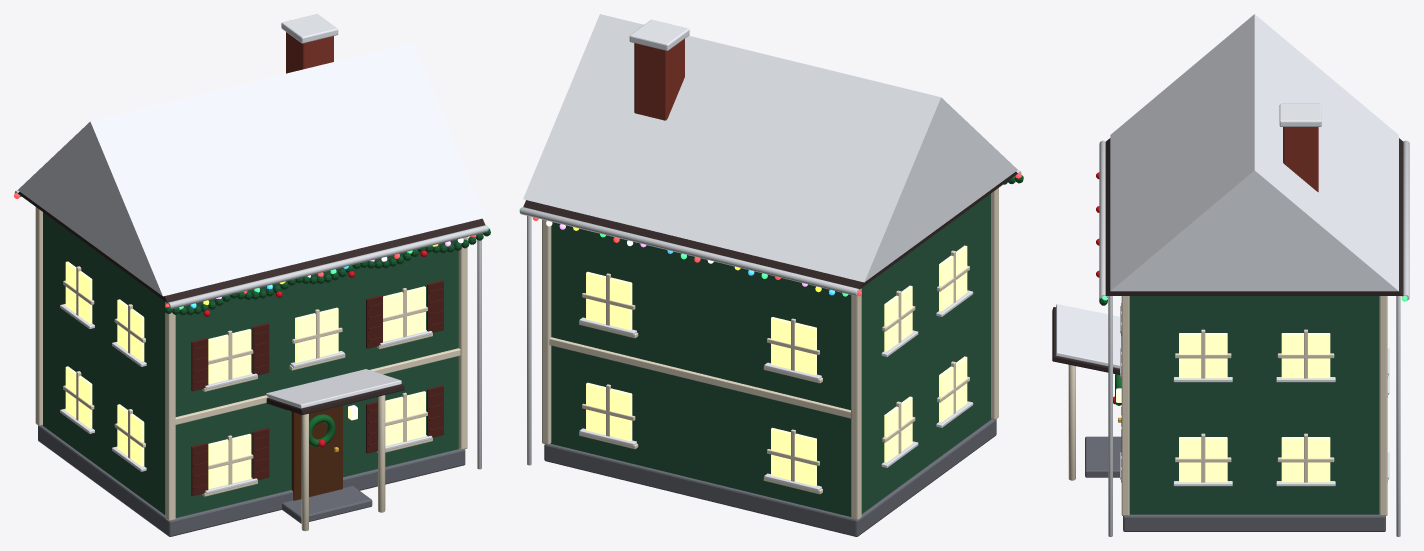
File: house_green.glb
The picture shows the model from 3 angles, left to right: view 1: azimuth 30°, elevation 25°; view 2: azimuth 150°, elevation 25°; view 3: azimuth 270°, elevation 25°; orthographic projection. The views are drawn at different scales.
Visible parts, largest first — view 1: house_green; view 2: house_green; view 3: house_green.
Boxes of the visible parts, <box> form: house_green: <box>14,14,490,536</box>; house_green: <box>519,14,1023,536</box>; house_green: <box>1052,14,1409,536</box>.
Size of the model in its own units: 7.27 by 8.34 by 6.96.
